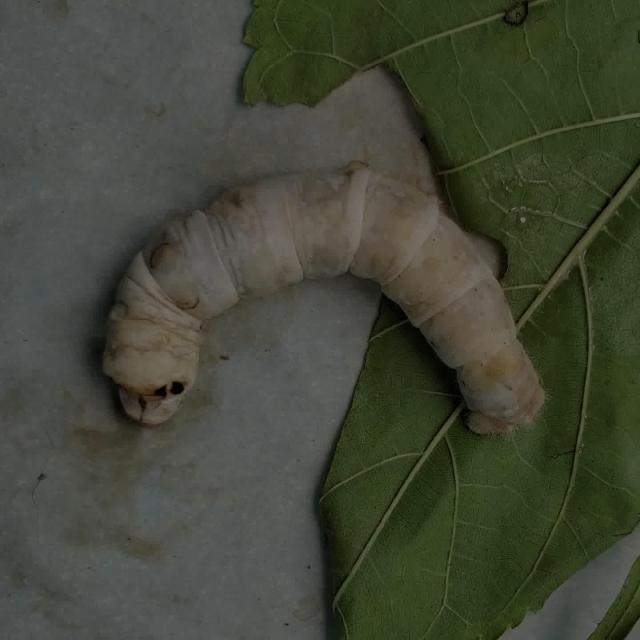Grasserie: (80, 128, 562, 509)
